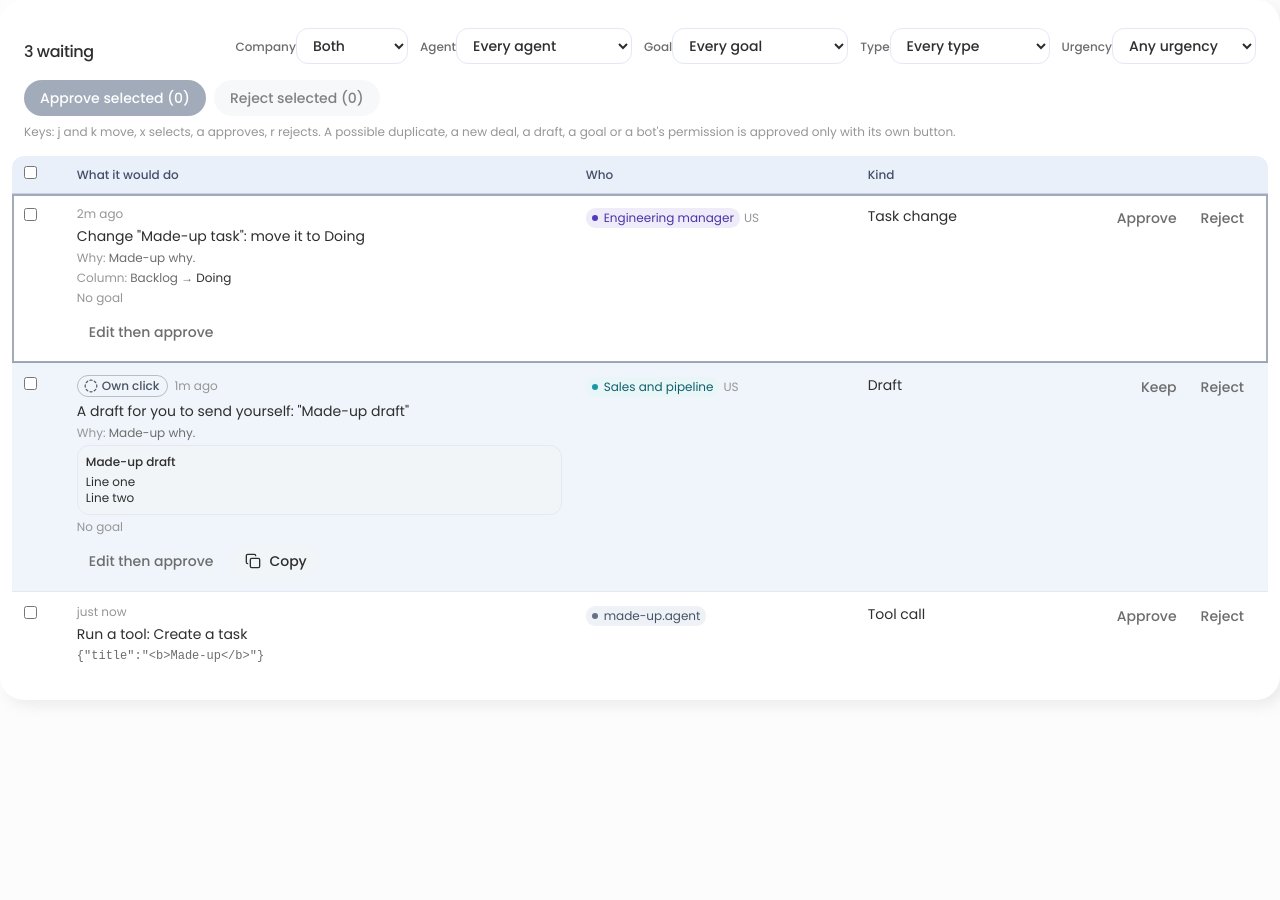
Scenario: a draft is kept, not approved; it can be copied and edited
expect the button "Keep" is shown: met, box left=1129, top=369, right=1188, bottom=405
expect the button "Copy" is shown: met, box left=233, top=543, right=319, bottom=579
Step 1. Click the button "Edit then approve" below "Line one Line two" → (151, 561), box left=77, top=543, right=225, bottom=579
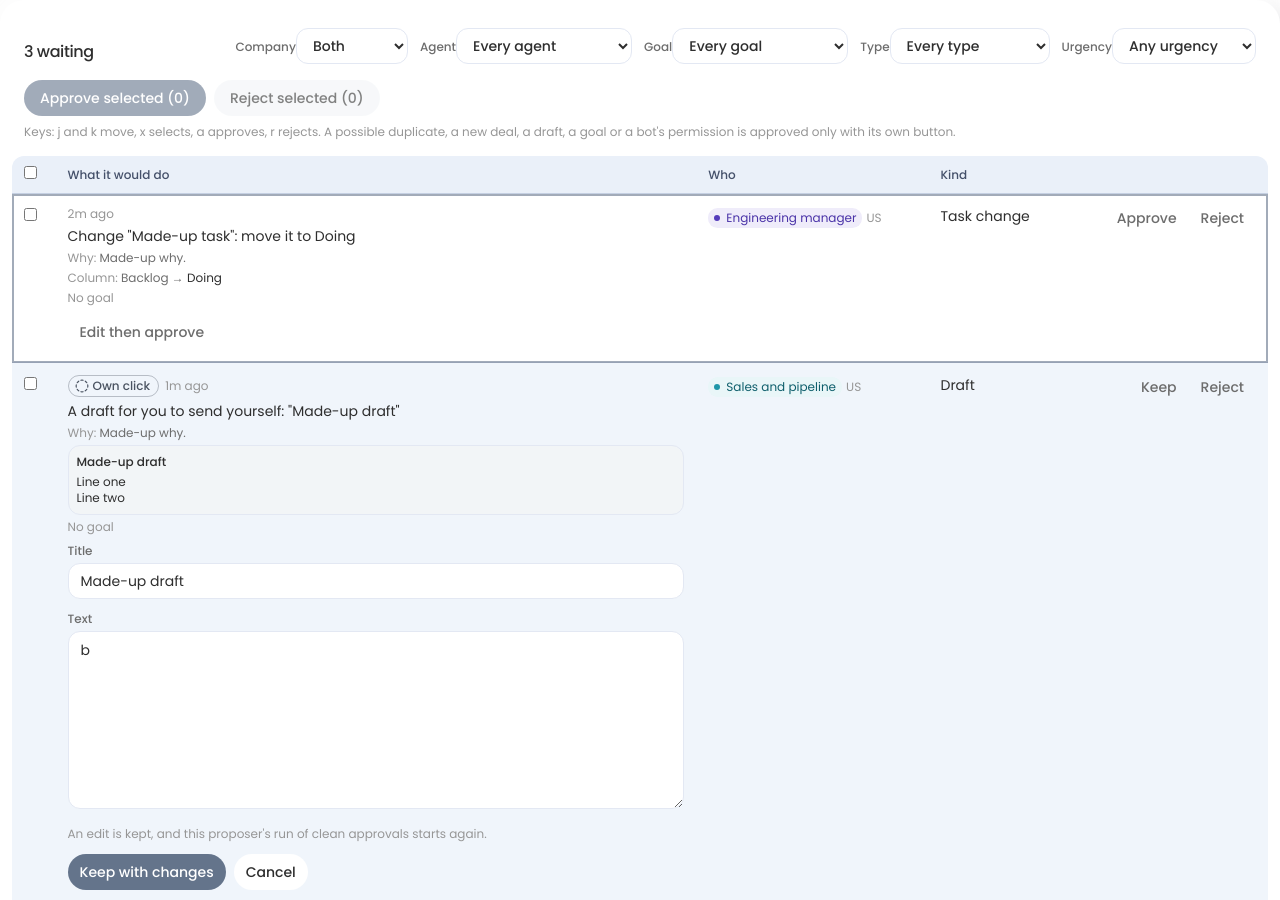
expect the text box labelled "Text" holds "b": met, box left=68, top=631, right=684, bottom=809
expect the button "Keep with changes" is shown: met, box left=68, top=854, right=226, bottom=890
